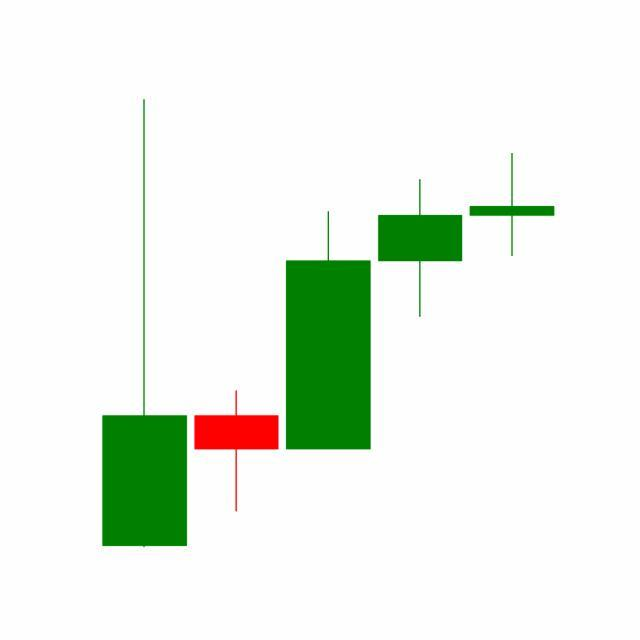Spinning Top: (466, 152, 559, 259)
